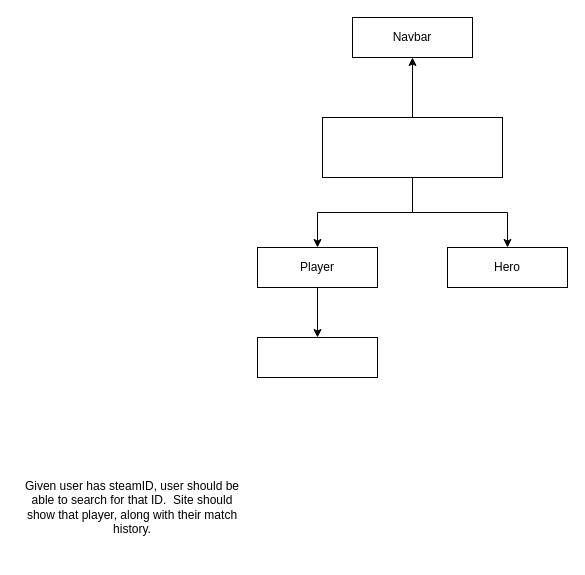
The diagram is 585 pixels wide and 575 high, and some of its shapes have lost their labels. Here are the shapes that lost their labels. From the top down, the centre of each, then its label:
At (x=412, y=147): "Homepage".
At (x=317, y=357): "Matches".
